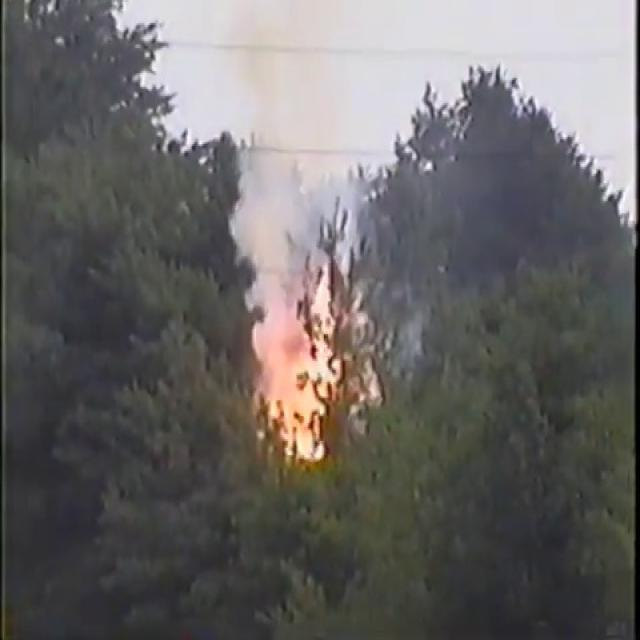Smoke: (216, 0, 384, 460)
